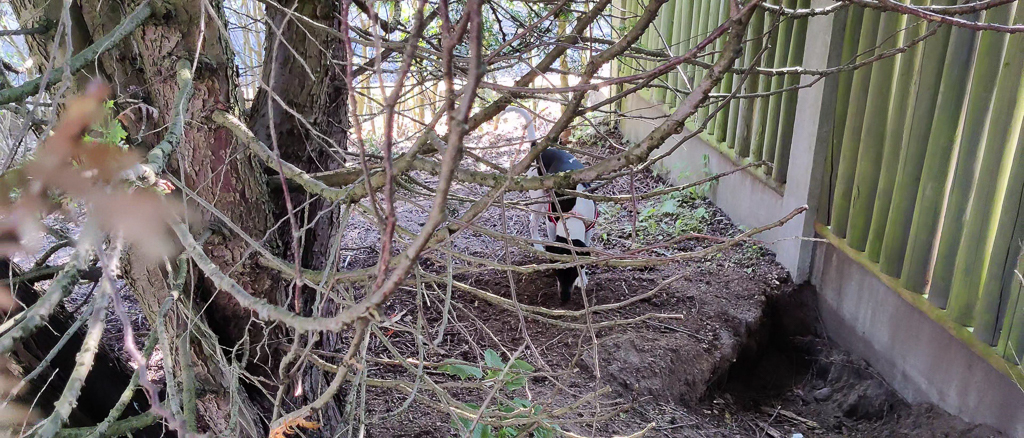Dog: (492, 98, 601, 307)
